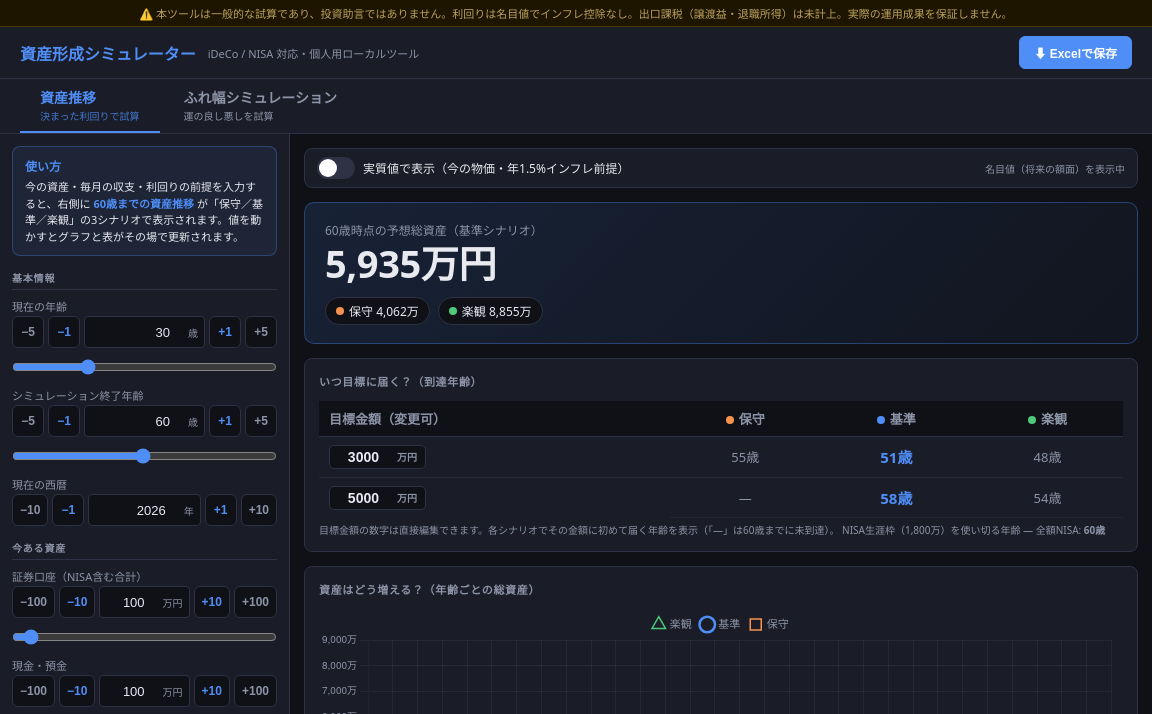
Test: App 結合テスト › タブ切替でモンテカルロの説明が表示される
Click the tab "ふれ幅シミュレーション 運の良し悪しを試算" at (260, 106), box [164,79,357,133]
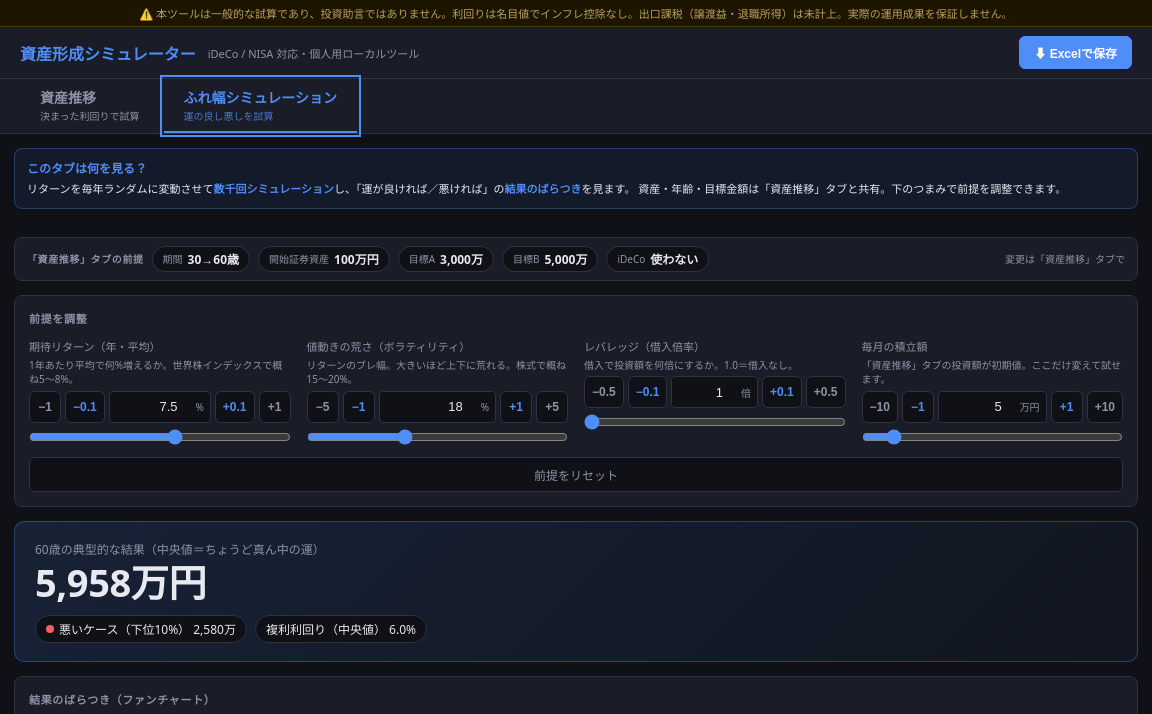
Result: the text "数千回シミュレーション" is shown at [214,181,334,196]
